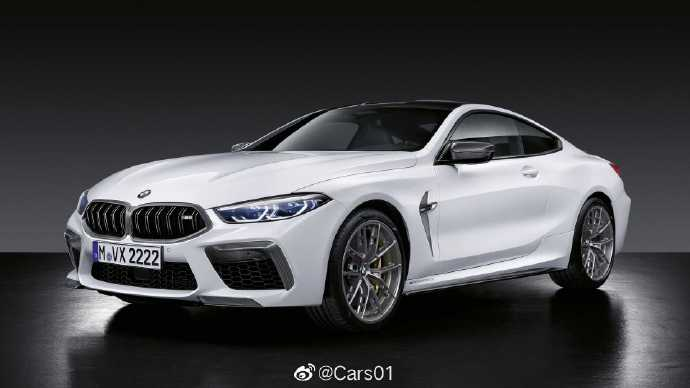other: (71, 101, 642, 333)
